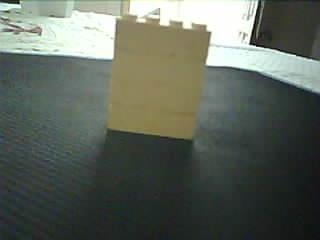lego: (103, 12, 212, 140)
